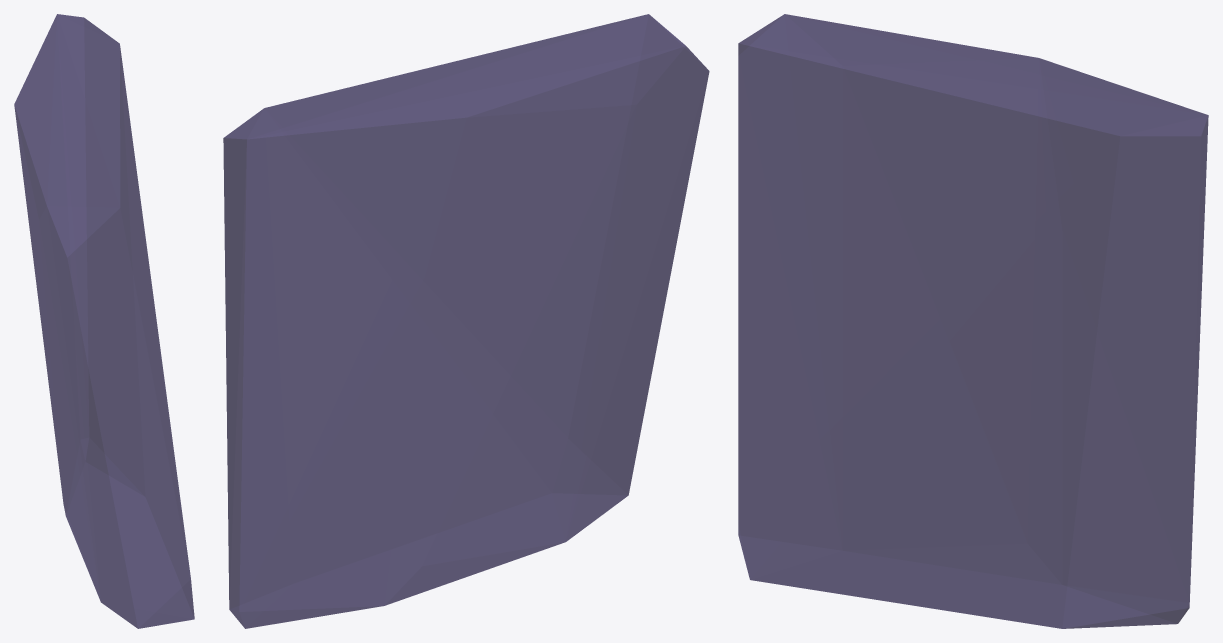
3 renders of one model, left to right at view 1: azimuth 30°, elevation 25°; view 2: azimuth 150°, elevation 25°; view 3: azimuth 270°, elevation 25°, orthographic. The views are drawn at different scales.
Parts seen in each view (by area): view 1: Shape_IndexedFaceSet.050_Shape_IndexedFaceSet.9571; view 2: Shape_IndexedFaceSet.050_Shape_IndexedFaceSet.9571; view 3: Shape_IndexedFaceSet.050_Shape_IndexedFaceSet.9571.
Part boxes in pixels (x1=…): Shape_IndexedFaceSet.050_Shape_IndexedFaceSet.9571: x1=14, y1=14, x2=194, y2=628; Shape_IndexedFaceSet.050_Shape_IndexedFaceSet.9571: x1=223, y1=14, x2=709, y2=628; Shape_IndexedFaceSet.050_Shape_IndexedFaceSet.9571: x1=738, y1=14, x2=1208, y2=628.
Bounding box in the file's own units: 0.1648 × 0.3146 × 0.2678.
